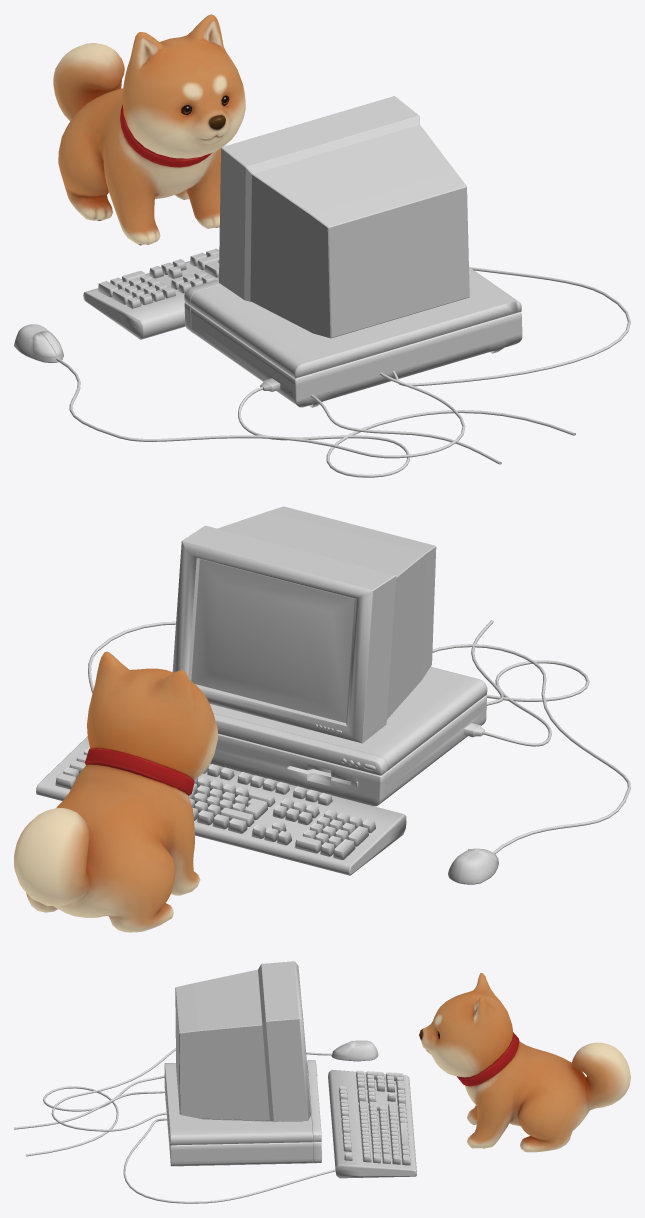
The model's file is shibepc.glb.
3 renders of one model, top to bottom at view 1: azimuth 30°, elevation 25°; view 2: azimuth 150°, elevation 25°; view 3: azimuth 270°, elevation 25°, orthographic. The views are drawn at different scales.
Visible parts, largest first — view 1: Object_2, Object_3, Box002, Group18985; view 2: Object_3, Box002, Object_2, Group18985; view 3: Object_3, Object_2, Box002, Group18985.
Boxes of the visible parts, x1,y1,x2,y2 form: Object_2: (219, 96, 469, 338); Object_3: (14, 248, 630, 477); Box002: (53, 14, 245, 245); Group18985: (120, 104, 211, 167); Object_3: (36, 541, 630, 884); Box002: (14, 651, 217, 932); Object_2: (174, 506, 436, 743); Group18985: (85, 748, 194, 795); Object_3: (14, 962, 416, 1203); Object_2: (175, 961, 308, 1121); Box002: (419, 973, 630, 1152); Group18985: (457, 1032, 519, 1086).
Size of the model in its own units: 3.53 by 1.38 by 5.17.
Materials: 2 (1 with a texture image).
